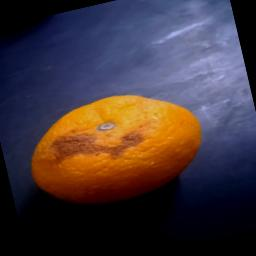Orange Unripe: (4, 67, 222, 221)
